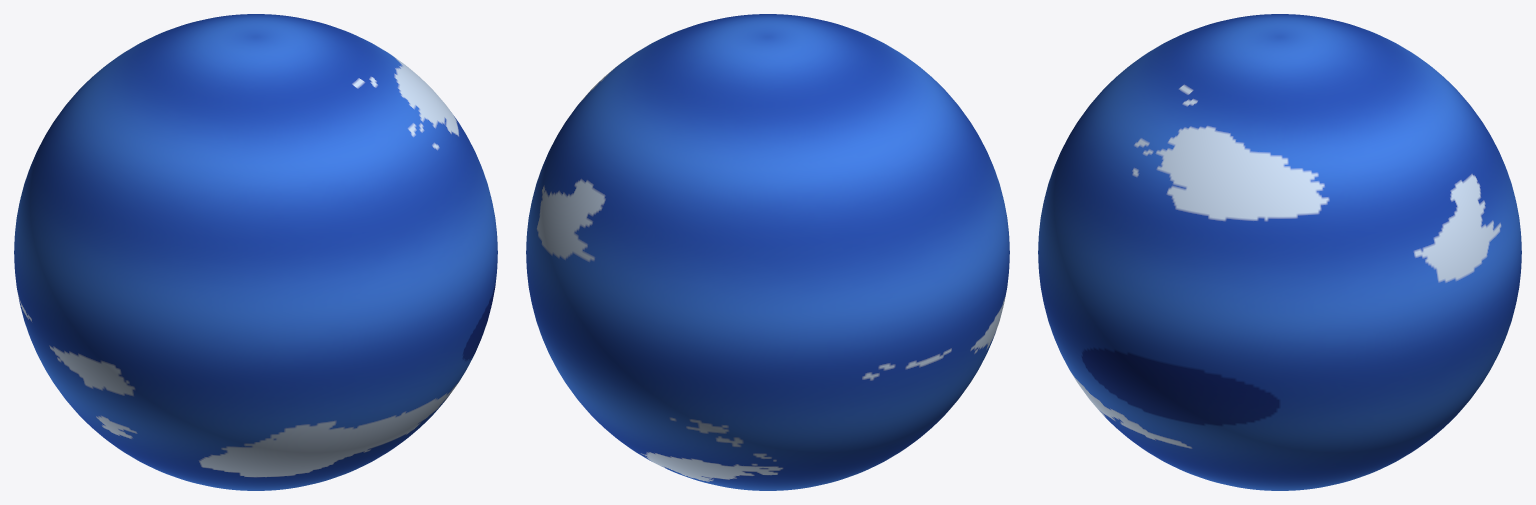
Rendered from netuno.glb.
3 renders of one model, left to right at view 1: azimuth 30°, elevation 25°; view 2: azimuth 150°, elevation 25°; view 3: azimuth 270°, elevation 25°, orthographic.
Parts seen in each view (by area): view 1: netuno; view 2: netuno; view 3: netuno.
Boxes of the visible parts, box(x1,y1,x2,y2) form: netuno: box(14, 14, 497, 490); netuno: box(526, 14, 1009, 490); netuno: box(1038, 14, 1521, 490).
Bounding box in the file's own units: 2 × 1.97 × 2.
Materials: 1 (1 with a texture image).
